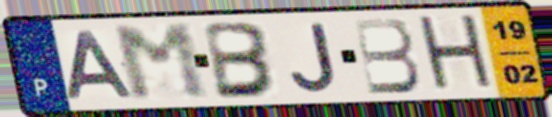A: (64, 29, 138, 102)
B: (202, 20, 281, 102), (350, 15, 424, 97)
H: (413, 12, 499, 96)
J: (288, 20, 342, 95)
M: (108, 21, 213, 104)
